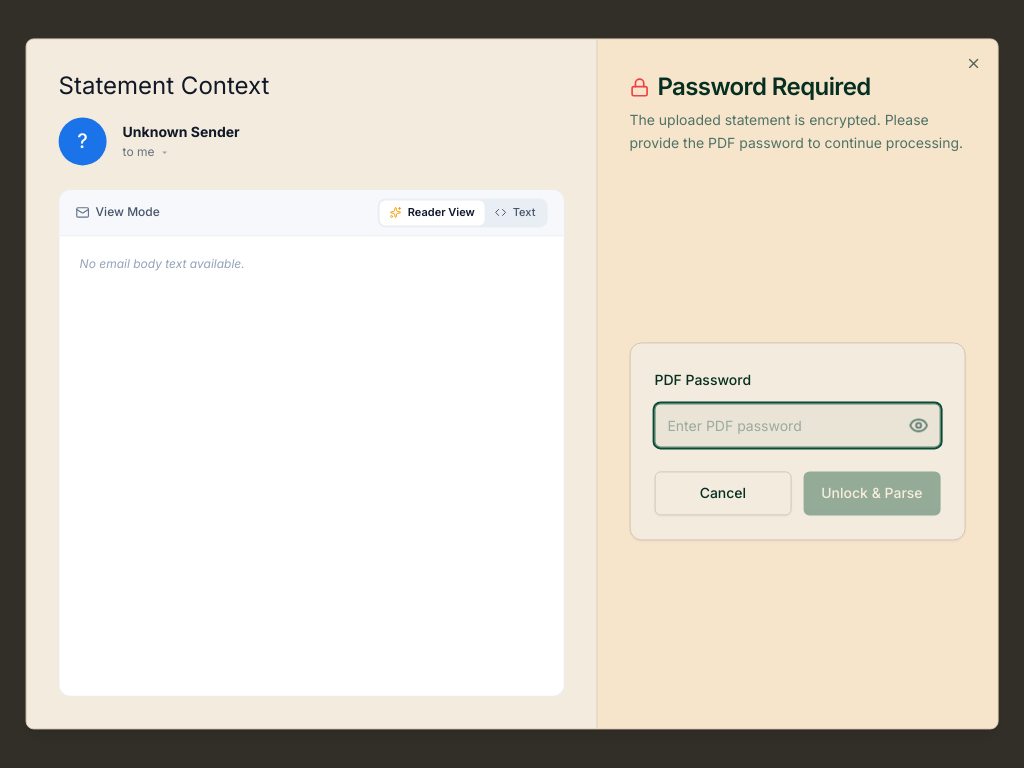
Test: PasswordPromptModal submission › tells the user to re-upload when the unlock session expired
The image size is (1024, 768).
In the password field labelled "PDF Password": (797, 426) [654,404,940,448], type "ok"
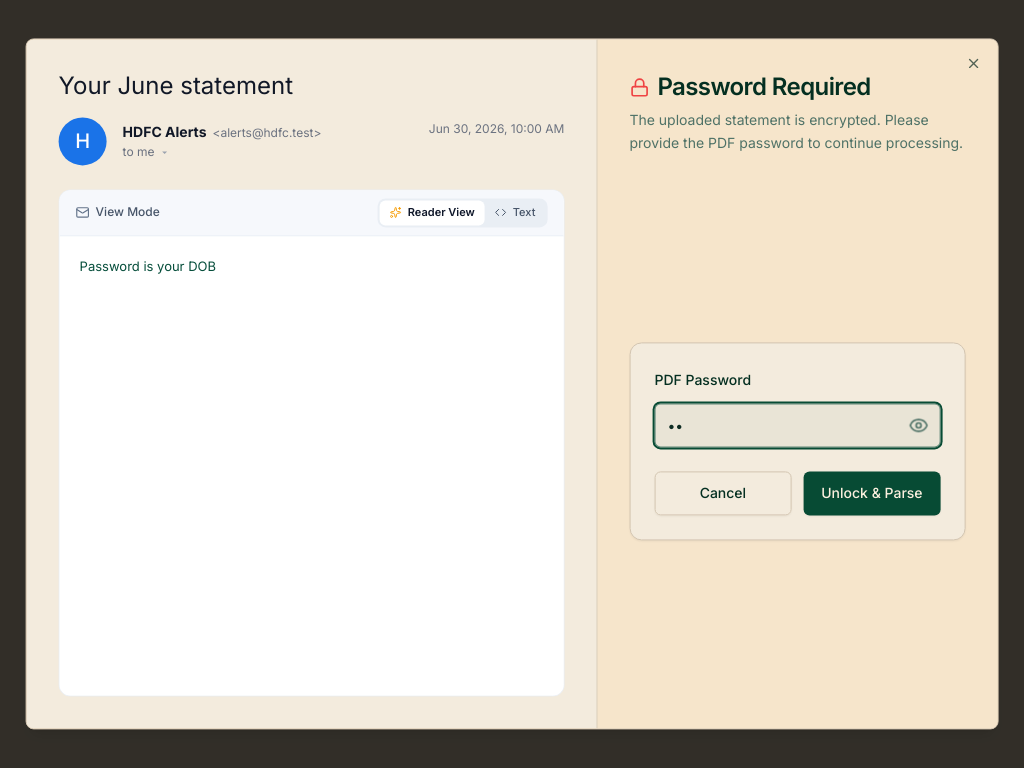
Click the button with aria-label "Submit PDF password": (872, 494) [803,472,940,516]
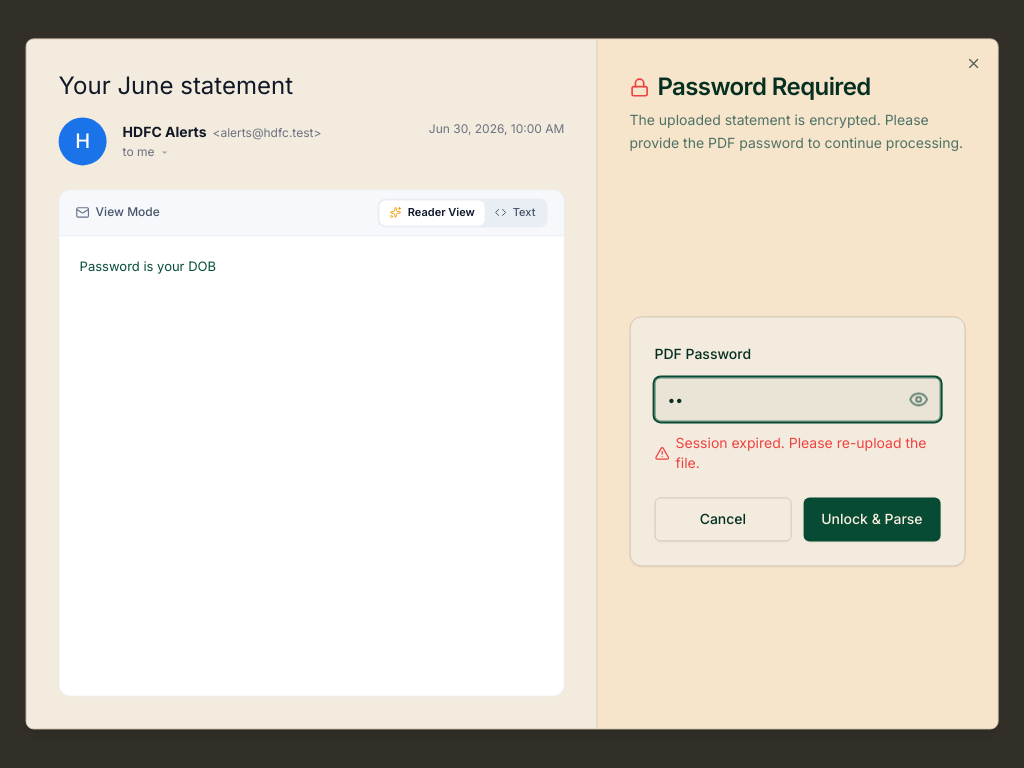
Expected: the message shows "Session expired", [676,435,926,472]
